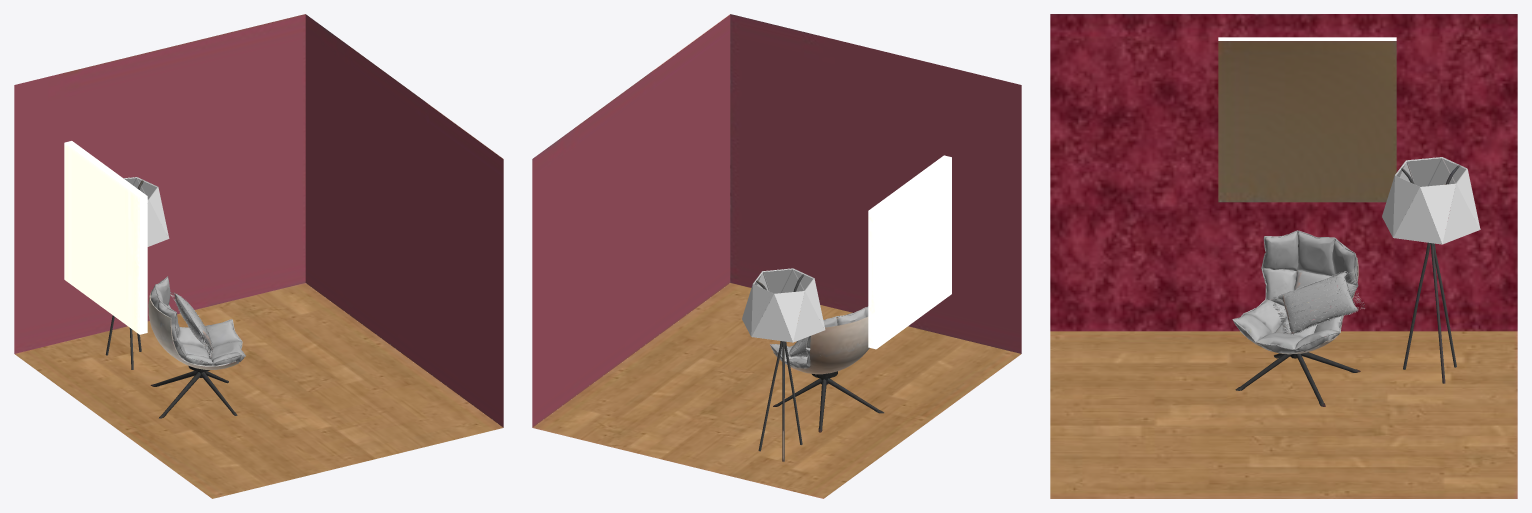
The model's file is small_room.glb.
The picture shows the model from 3 angles, left to right: view 1: azimuth 30°, elevation 25°; view 2: azimuth 150°, elevation 25°; view 3: azimuth 270°, elevation 25°; orthographic projection. The views are drawn at different scales.
Parts seen in each view (by area): view 1: Room, Sofa, Floor_Lamp; view 2: Room, Sofa, Floor_Lamp; view 3: Sofa, Room, Floor_Lamp.
Boxes of the visible parts, <box> form: Room: <box>14,14,503,427</box>; Sofa: <box>15,141,503,498</box>; Floor_Lamp: <box>124,177,168,246</box>; Room: <box>532,14,1021,427</box>; Sofa: <box>532,155,1020,498</box>; Floor_Lamp: <box>742,268,824,342</box>; Sofa: <box>1050,37,1517,498</box>; Room: <box>1050,14,1517,331</box>; Floor_Lamp: <box>1382,157,1480,244</box>.
Bounding box in the file's own units: 2.68 × 2.36 × 3.15.
3 materials, 2 textured.
